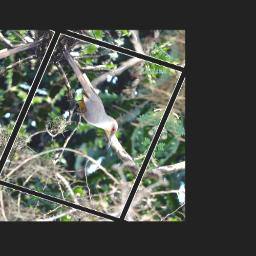Cuckoo: (28, 45, 144, 150)
